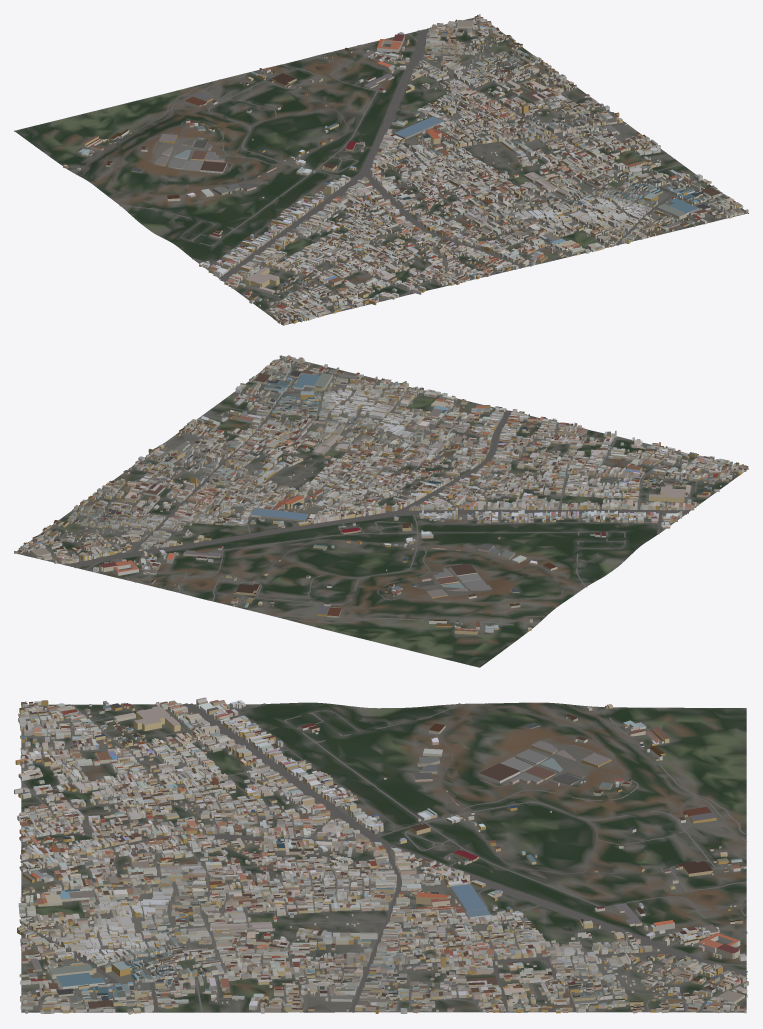
The picture shows the model from 3 angles, top to bottom: view 1: azimuth 30°, elevation 25°; view 2: azimuth 150°, elevation 25°; view 3: azimuth 270°, elevation 25°; orthographic projection. The views are drawn at different scales.
Parts seen in each view (by area): view 1: buildings, ground, roads; view 2: buildings, ground, roads; view 3: buildings, ground, roads.
Boxes of the visible parts, <box> form: buildings: <box>63,14,748,325</box>; ground: <box>14,17,748,325</box>; roads: <box>70,21,746,317</box>; buildings: <box>14,355,748,634</box>; ground: <box>14,356,748,667</box>; roads: <box>31,359,742,625</box>; buildings: <box>14,697,748,1014</box>; ground: <box>21,702,746,1012</box>; roads: <box>19,703,747,1012</box>.
Bounding box in the file's own units: 1415 × 34.94 × 1419.
